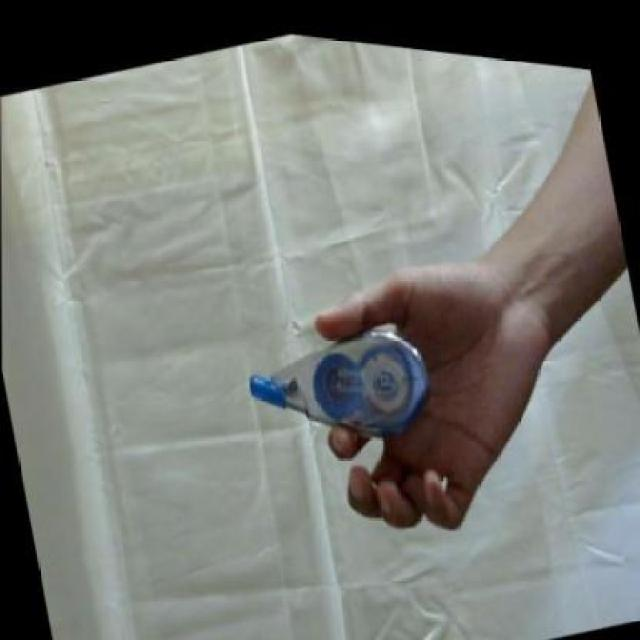Plastic: (247, 323, 427, 432)
